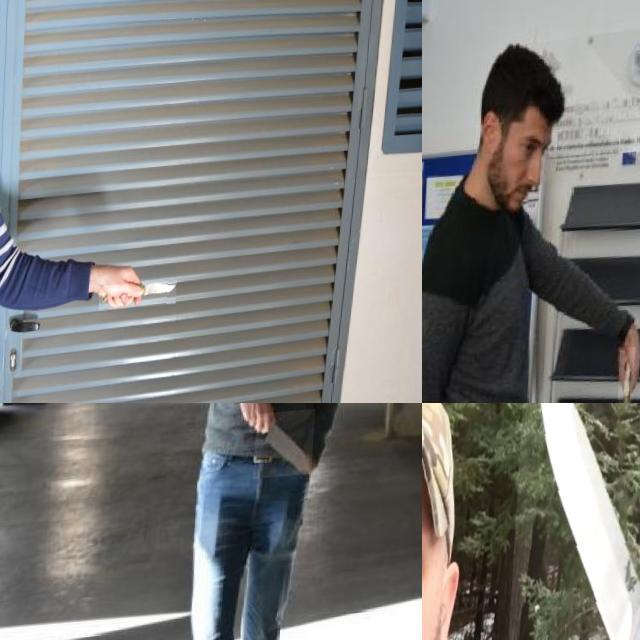-: (504, 403, 640, 640), (257, 416, 318, 484), (103, 286, 181, 317), (620, 353, 640, 403)
